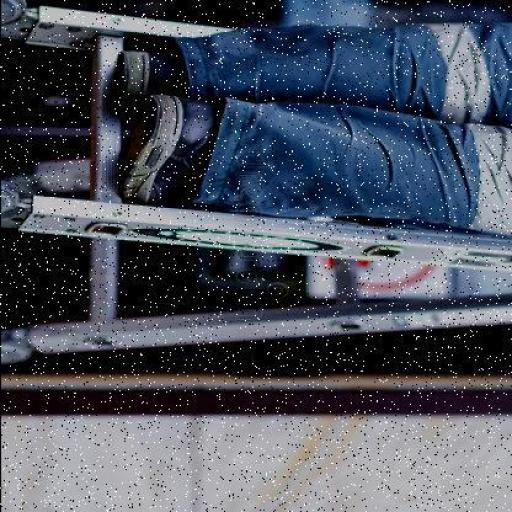safety_shoe: (123, 101, 230, 208), (113, 54, 195, 116)
